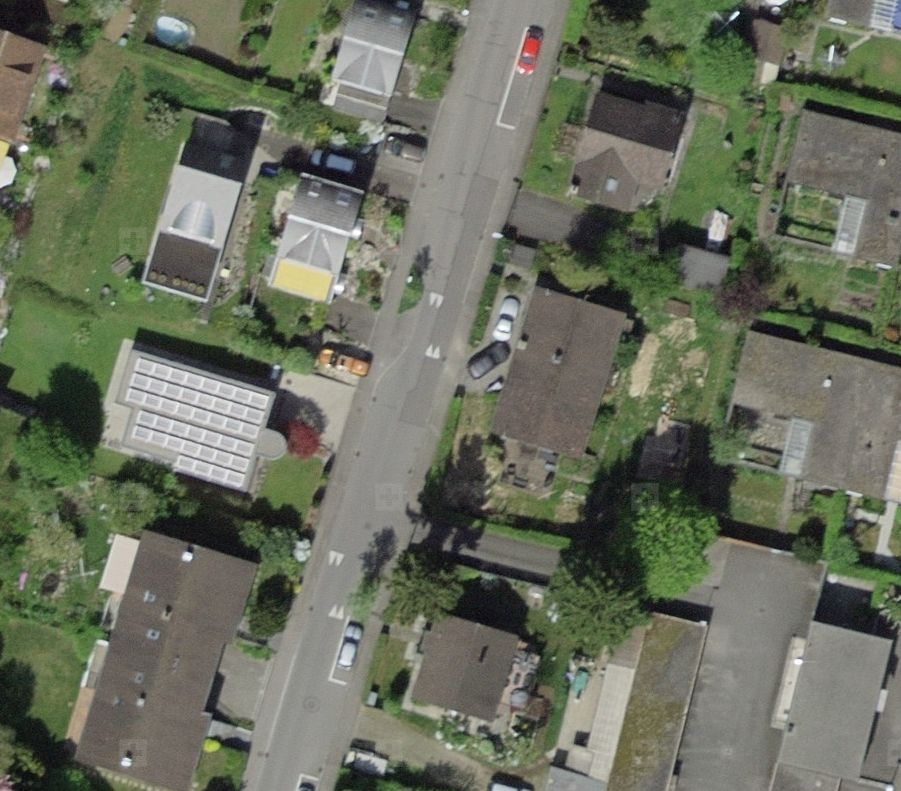solar: (124, 355, 273, 495)
